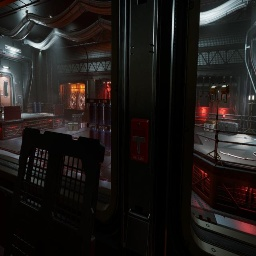FireAlarm ,: (131, 118, 149, 163)
